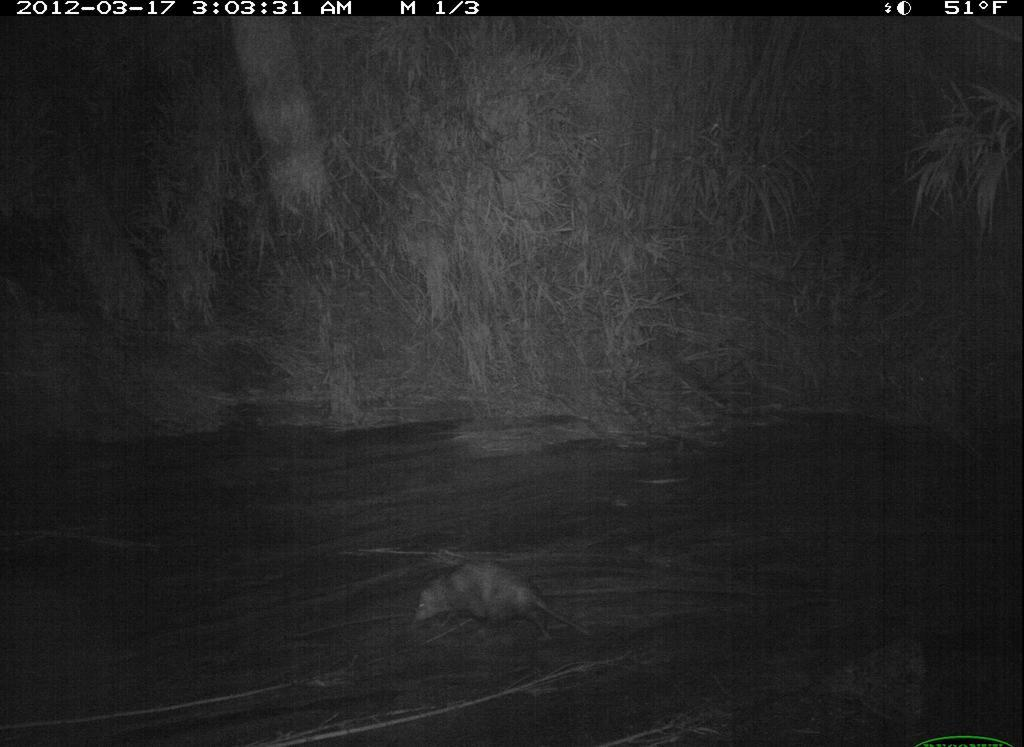opossum: (409, 556, 601, 653)
